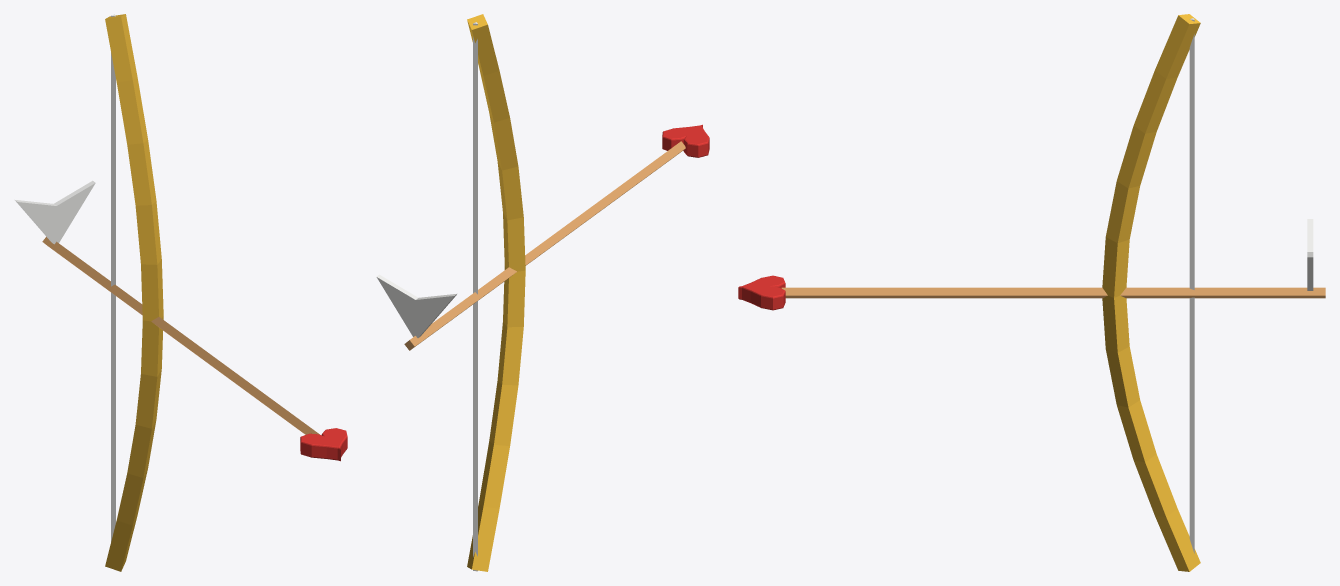
The model's file is CupidBow.fbx.
The picture shows the model from 3 angles, left to right: view 1: azimuth 30°, elevation 25°; view 2: azimuth 150°, elevation 25°; view 3: azimuth 270°, elevation 25°; orthographic projection.
Visible parts, largest first — view 1: CupidBow; view 2: CupidBow; view 3: CupidBow.
Boxes of the visible parts, x1,y1,x2,y2 form: CupidBow: [14, 14, 347, 571]; CupidBow: [376, 14, 709, 571]; CupidBow: [738, 14, 1325, 571].
Size of the model in its own units: 0.6 by 4.06 by 3.89.
1 material, 1 textured.
